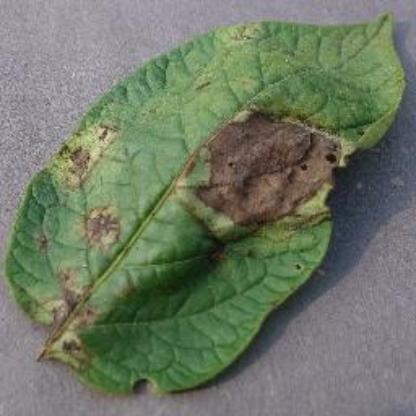Late-Blight: (3, 13, 414, 404)
